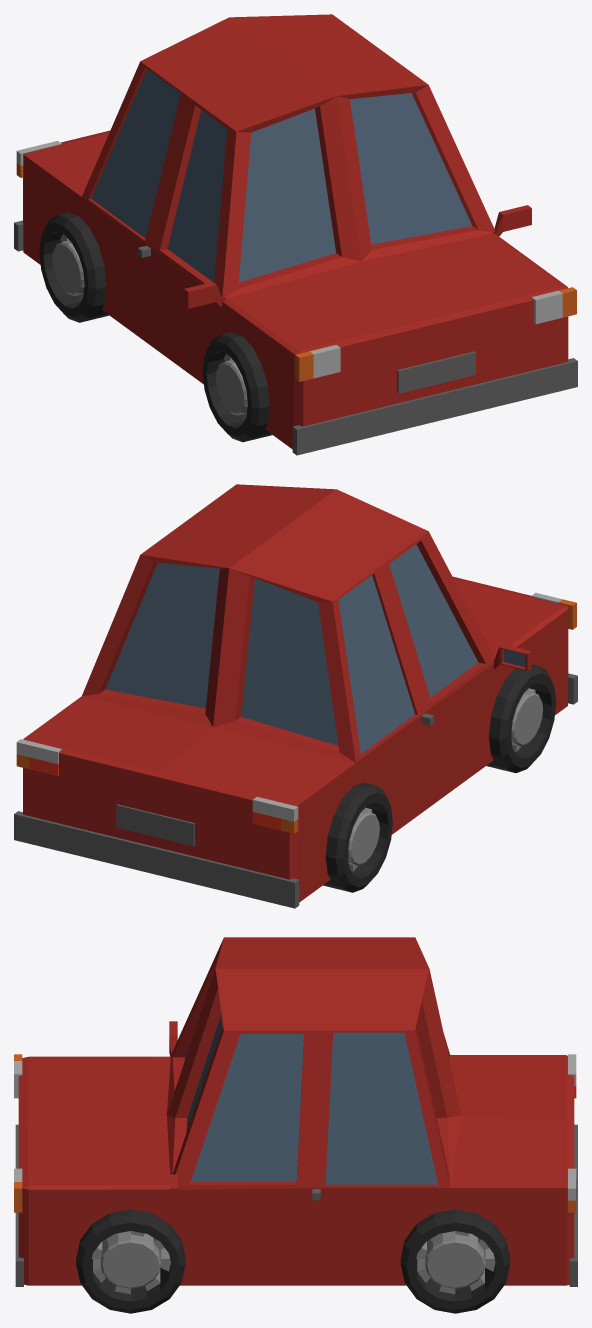
File: RedCar.fbx
3 renders of one model, top to bottom at view 1: azimuth 30°, elevation 25°; view 2: azimuth 150°, elevation 25°; view 3: azimuth 270°, elevation 25°, orthographic.
Visible parts, largest first — view 1: Red; view 2: Red; view 3: Red.
Part boxes in pixels (x1,y1,x2,y2): Red: (14,14,577,455); Red: (14,484,577,908); Red: (14,937,577,1313).
Bounding box in the file's own units: 216 × 165 × 308.
